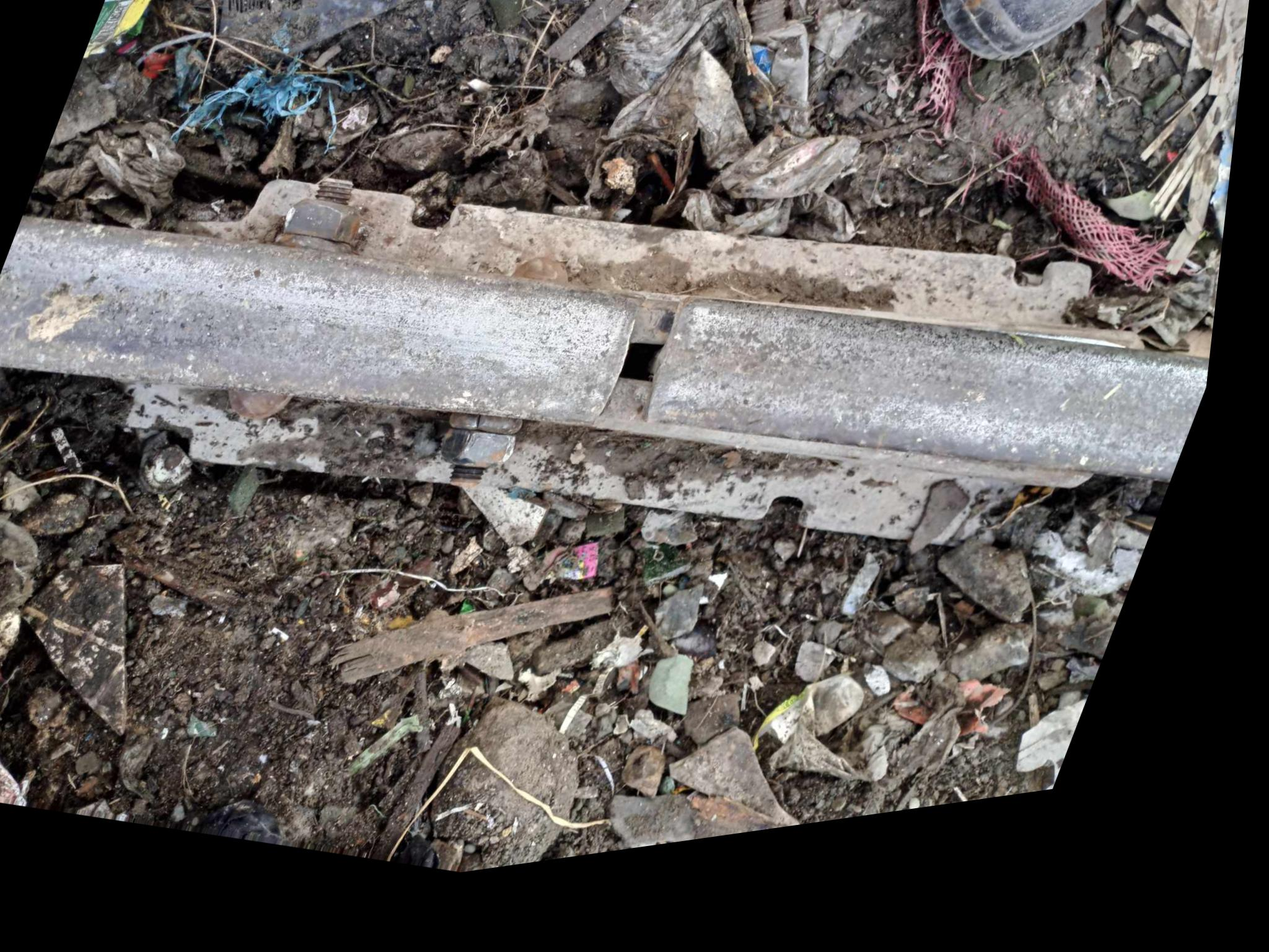person: (504, 245, 799, 527)
